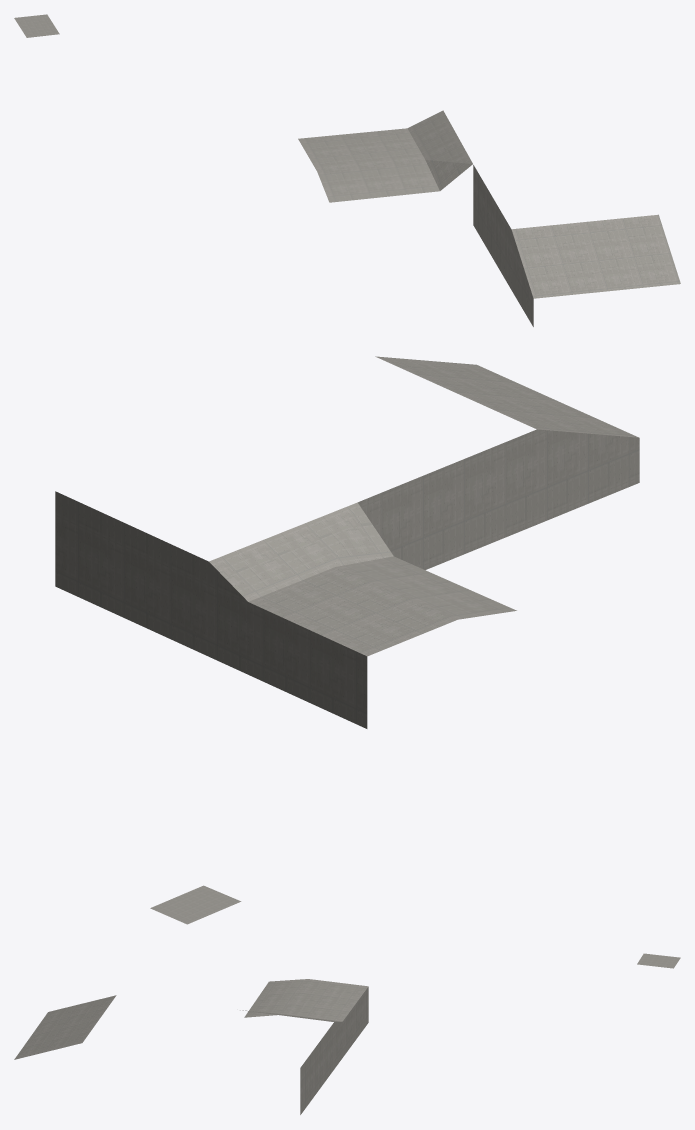
Rendered from kd_stage_1364a3_4_21.glb.
3 views of the same model, one above another, from view 1: azimuth 30°, elevation 25°; view 2: azimuth 150°, elevation 25°; view 3: azimuth 270°, elevation 25° (orthographic). The views are drawn at different scales.
Visible parts, largest first — view 1: kd_stage_1364a3_4_21; view 2: kd_stage_1364a3_4_21; view 3: kd_stage_1364a3_4_21.
Boxes of the visible parts, <box> form: kd_stage_1364a3_4_21: <box>14,14,680,326</box>; kd_stage_1364a3_4_21: <box>55,356,639,924</box>; kd_stage_1364a3_4_21: <box>14,953,680,1114</box>.
Bounding box in the file's own units: 196 × 33.7 × 427.
1 material, 1 textured.
